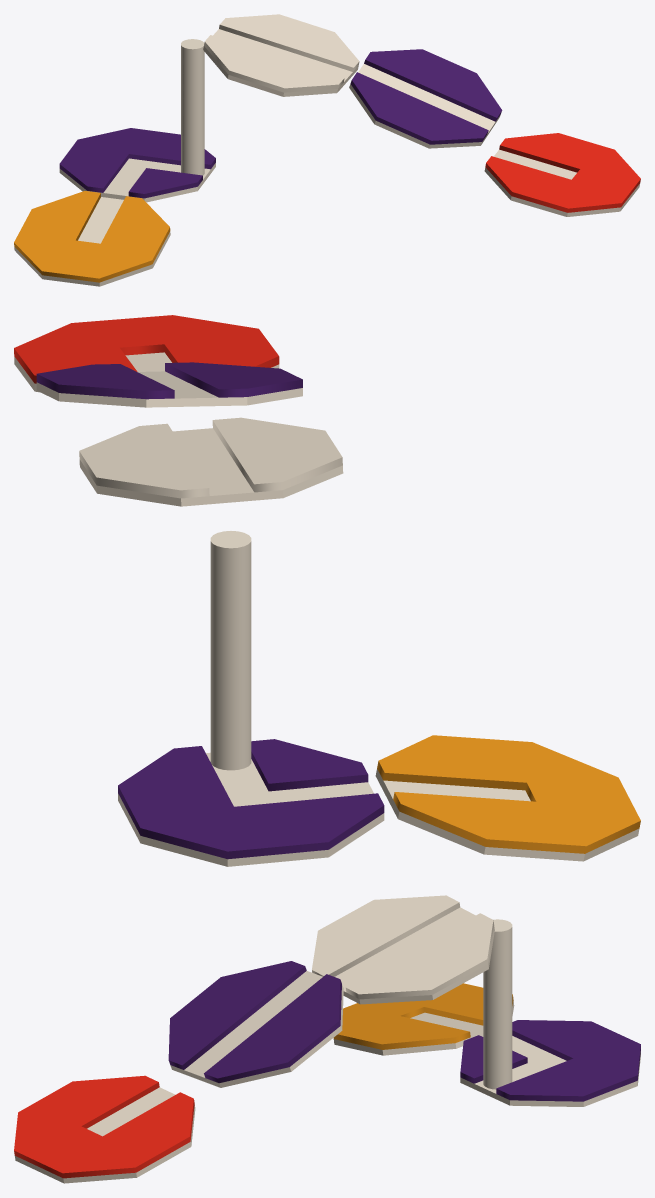
File: Lvl_002.FBX
3 views of the same model, one above another, from view 1: azimuth 30°, elevation 25°; view 2: azimuth 150°, elevation 25°; view 3: azimuth 270°, elevation 25° (orthographic). The views are drawn at different scales.
Visible parts, largest first — view 1: NGon045; view 2: NGon045; view 3: NGon045.
Part boxes in pixels (left/top/right/bottom): NGon045: left=14, top=14, right=640, bottom=286; NGon045: left=14, top=315, right=640, bottom=866; NGon045: left=14, top=895, right=640, bottom=1183.
Bounding box in the file's own units: 55.13 × 19.87 × 52.21.
